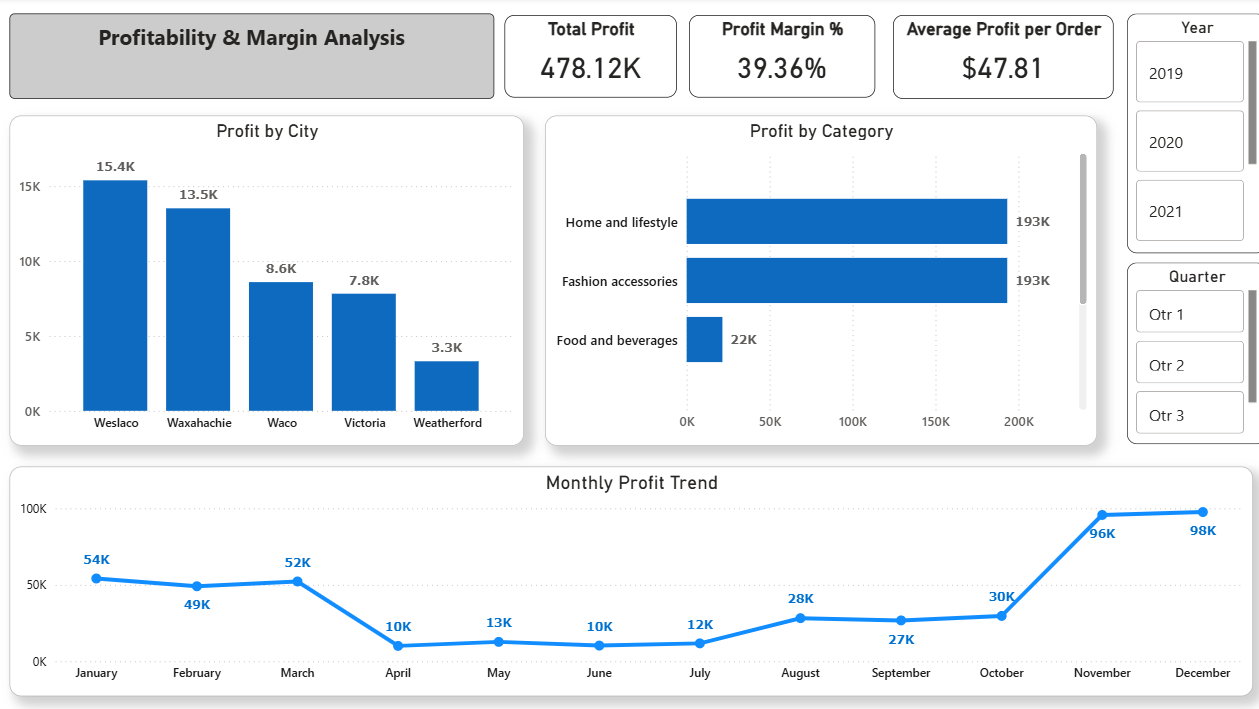

The dashboard page shown, as its layout file describes it:
{"tool":"powerbi","page":{"name":"Profitability Analysis","canvas":[1280,720],"ordinal":1},"visuals":[{"type":"card","title":"Total Profit","fields":{"Values":["Walmart.Total Profit"]},"box":[510.3,18.2,174.1,83.3],"z":0},{"type":"card","title":"Profit Margin %","fields":{"Values":["Walmart.Profit Margin %"]},"box":[696.5,18.2,187.8,83.3],"z":1000},{"type":"card","title":"Average Profit per Order","fields":{"Values":["Walmart.Avg Profit per Order"]},"box":[902.5,18.2,222.6,84.8],"z":2000},{"type":"columnChart","title":"Profit by City","fields":{"Category":["Walmart.City"],"Y":["Walmart.Total Profit"]},"box":[10.6,119.6,519.4,333.1],"z":3000},{"type":"clusteredBarChart","title":"Profit by Category","fields":{"Category":["Walmart.category"],"Y":["Walmart.Total Profit"]},"box":[551.2,119.6,557.2,333.1],"z":4000},{"type":"lineChart","title":"Monthly Profit Trend","fields":{"Category":["Walmart.date.Variation.Date Hierarchy.Month"],"Y":["Walmart.Total Profit"]},"box":[10.6,473.9,1255.3,231.7],"z":5000},{"type":"advancedSlicerVisual","fields":{"Values":["Walmart.date.Variation.Date Hierarchy.Year"]},"box":[1138.7,16.7,140.8,242.3],"z":6000},{"type":"textbox","box":[10.6,16.7,489.1,86.3],"z":7000},{"type":"advancedSlicerVisual","fields":{"Values":["Walmart.date.Variation.Date Hierarchy.Quarter"]},"box":[1138.7,268,140.8,183.2],"z":8000}]}

Visuals, with their boxes in screenshot pixels (x1, y1, x2, y2), scaled from the page's 1280x720 canvas onto the 1259x709 screenshot:
"Total Profit" card: {"left": 502, "top": 18, "right": 673, "bottom": 100}
"Profit Margin %" card: {"left": 685, "top": 18, "right": 870, "bottom": 100}
"Average Profit per Order" card: {"left": 888, "top": 18, "right": 1107, "bottom": 101}
"Profit by City" columnChart: {"left": 10, "top": 118, "right": 521, "bottom": 446}
"Profit by Category" clusteredBarChart: {"left": 542, "top": 118, "right": 1090, "bottom": 446}
"Monthly Profit Trend" lineChart: {"left": 10, "top": 467, "right": 1245, "bottom": 695}
advancedSlicerVisual - Walmart.date.Variation.Date Hierarchy.Year: {"left": 1120, "top": 16, "right": 1258, "bottom": 255}
textbox: {"left": 10, "top": 16, "right": 492, "bottom": 101}
advancedSlicerVisual - Walmart.date.Variation.Date Hierarchy.Quarter: {"left": 1120, "top": 264, "right": 1258, "bottom": 444}
